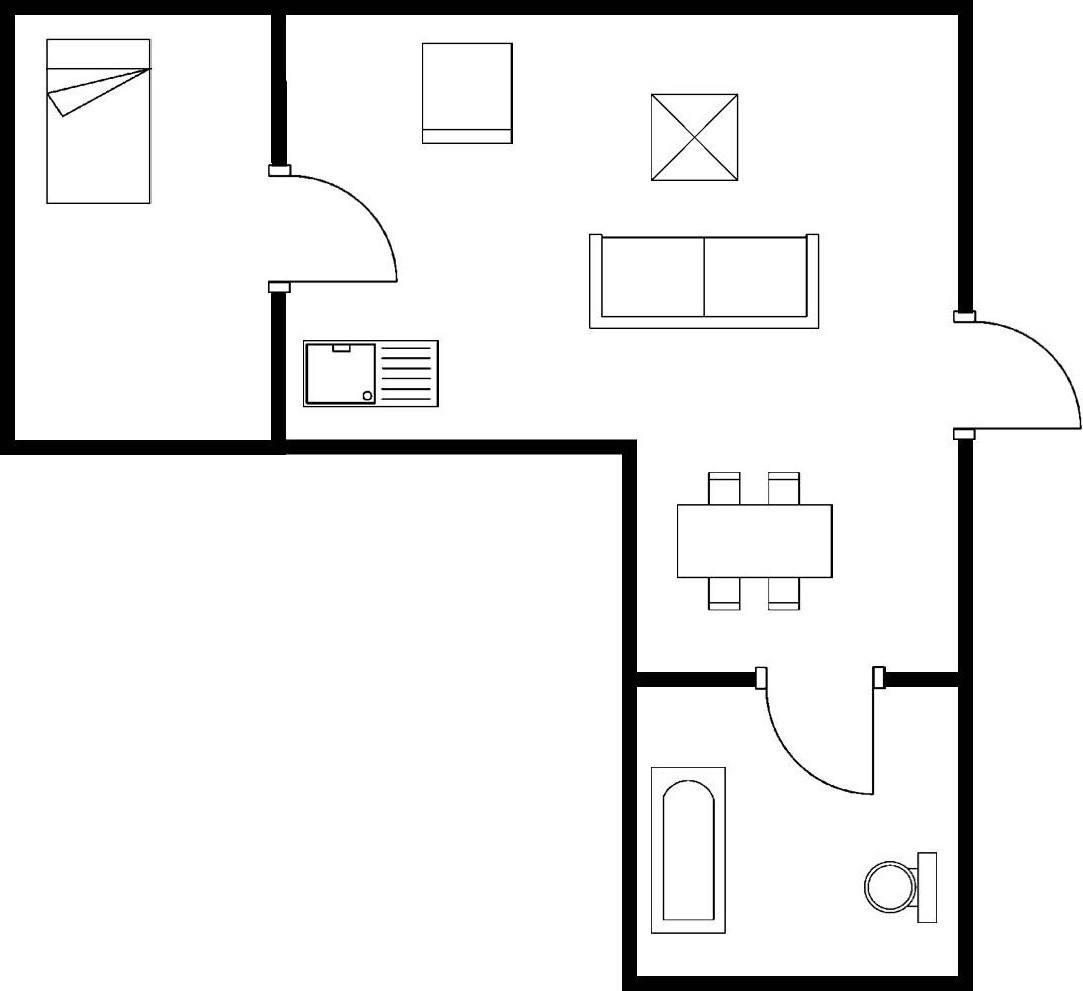bed: (41, 33, 158, 210)
coffee_table: (648, 90, 744, 187)
dining_table: (673, 465, 838, 614)
large_sink: (860, 847, 944, 930)
large_sofa: (582, 228, 824, 336)
sink: (298, 336, 444, 412)
small_sofa: (416, 38, 520, 151)
tub: (645, 761, 731, 939)
